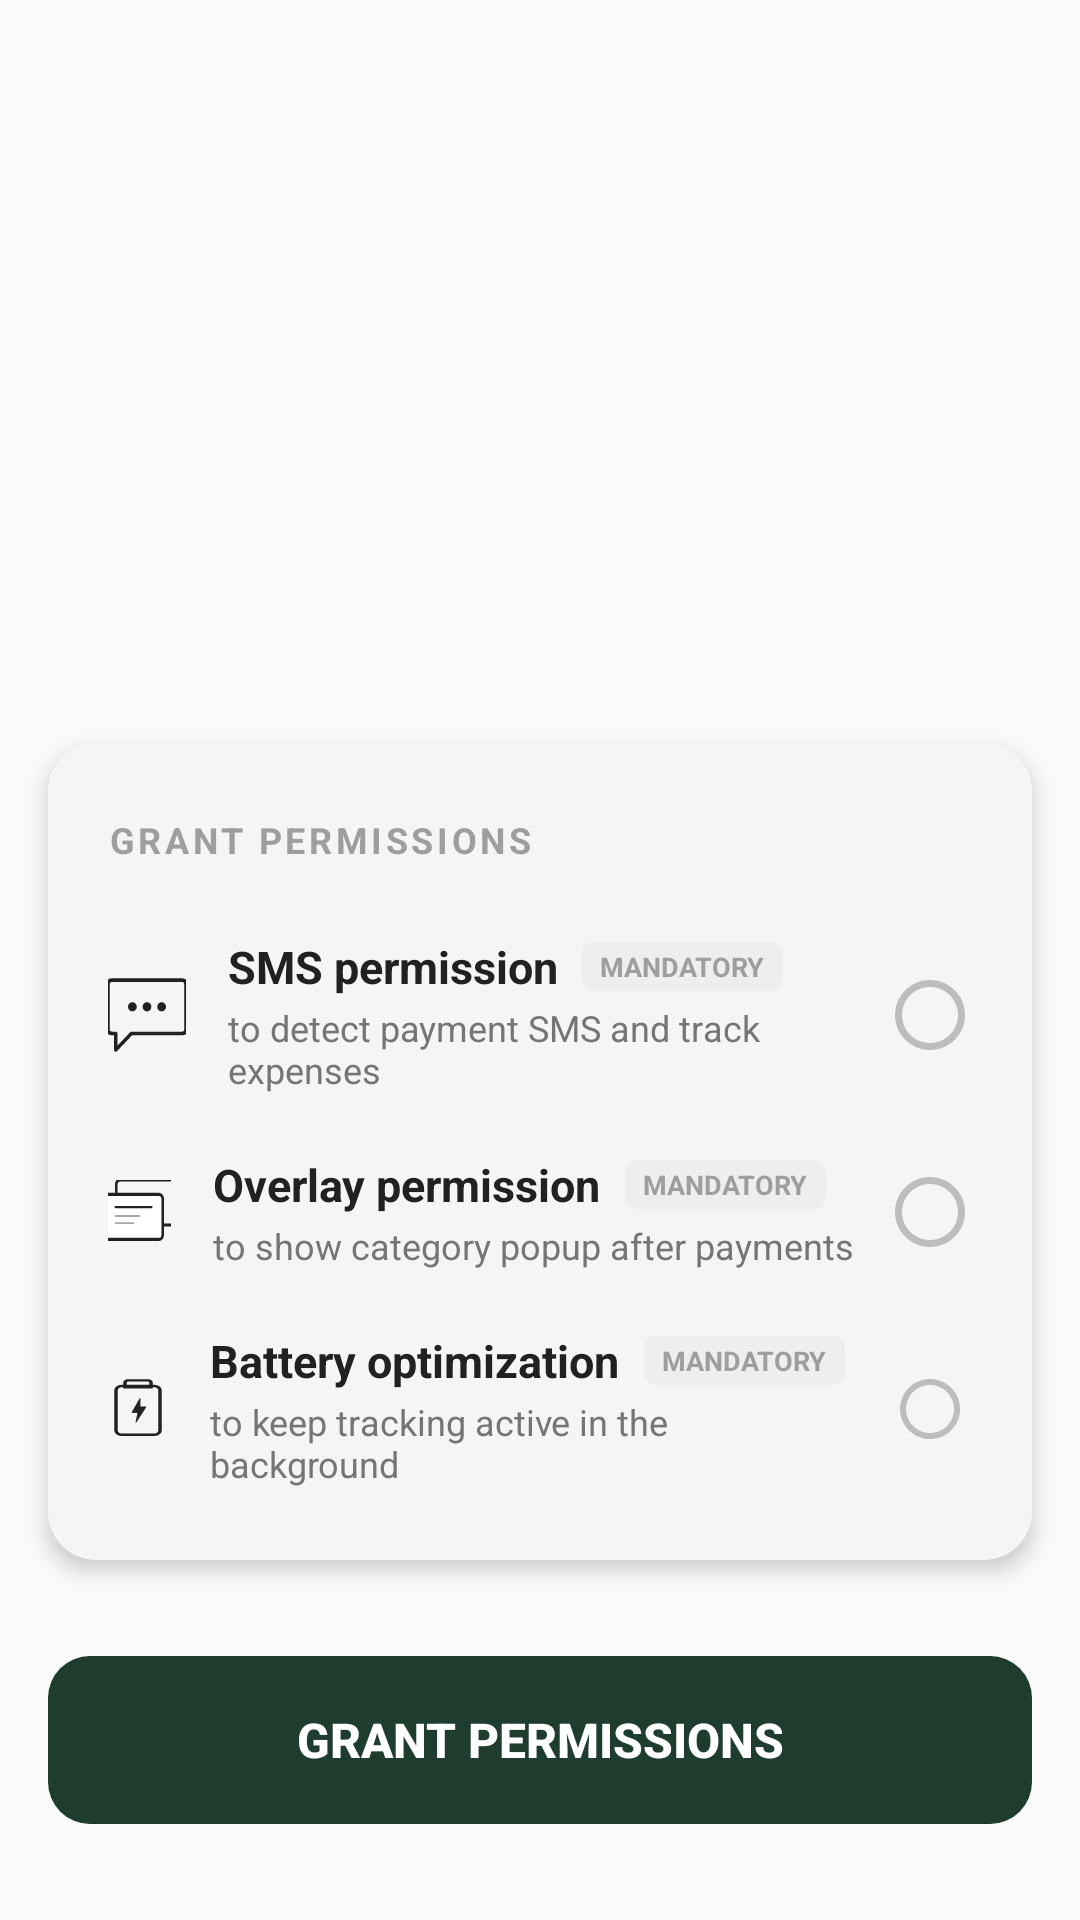

Named icons in this screenshot (1080w x 1920h) and their bounding boxes, region(x1, y1, x2, y2):
battery perm: region(114, 1379, 162, 1436)
